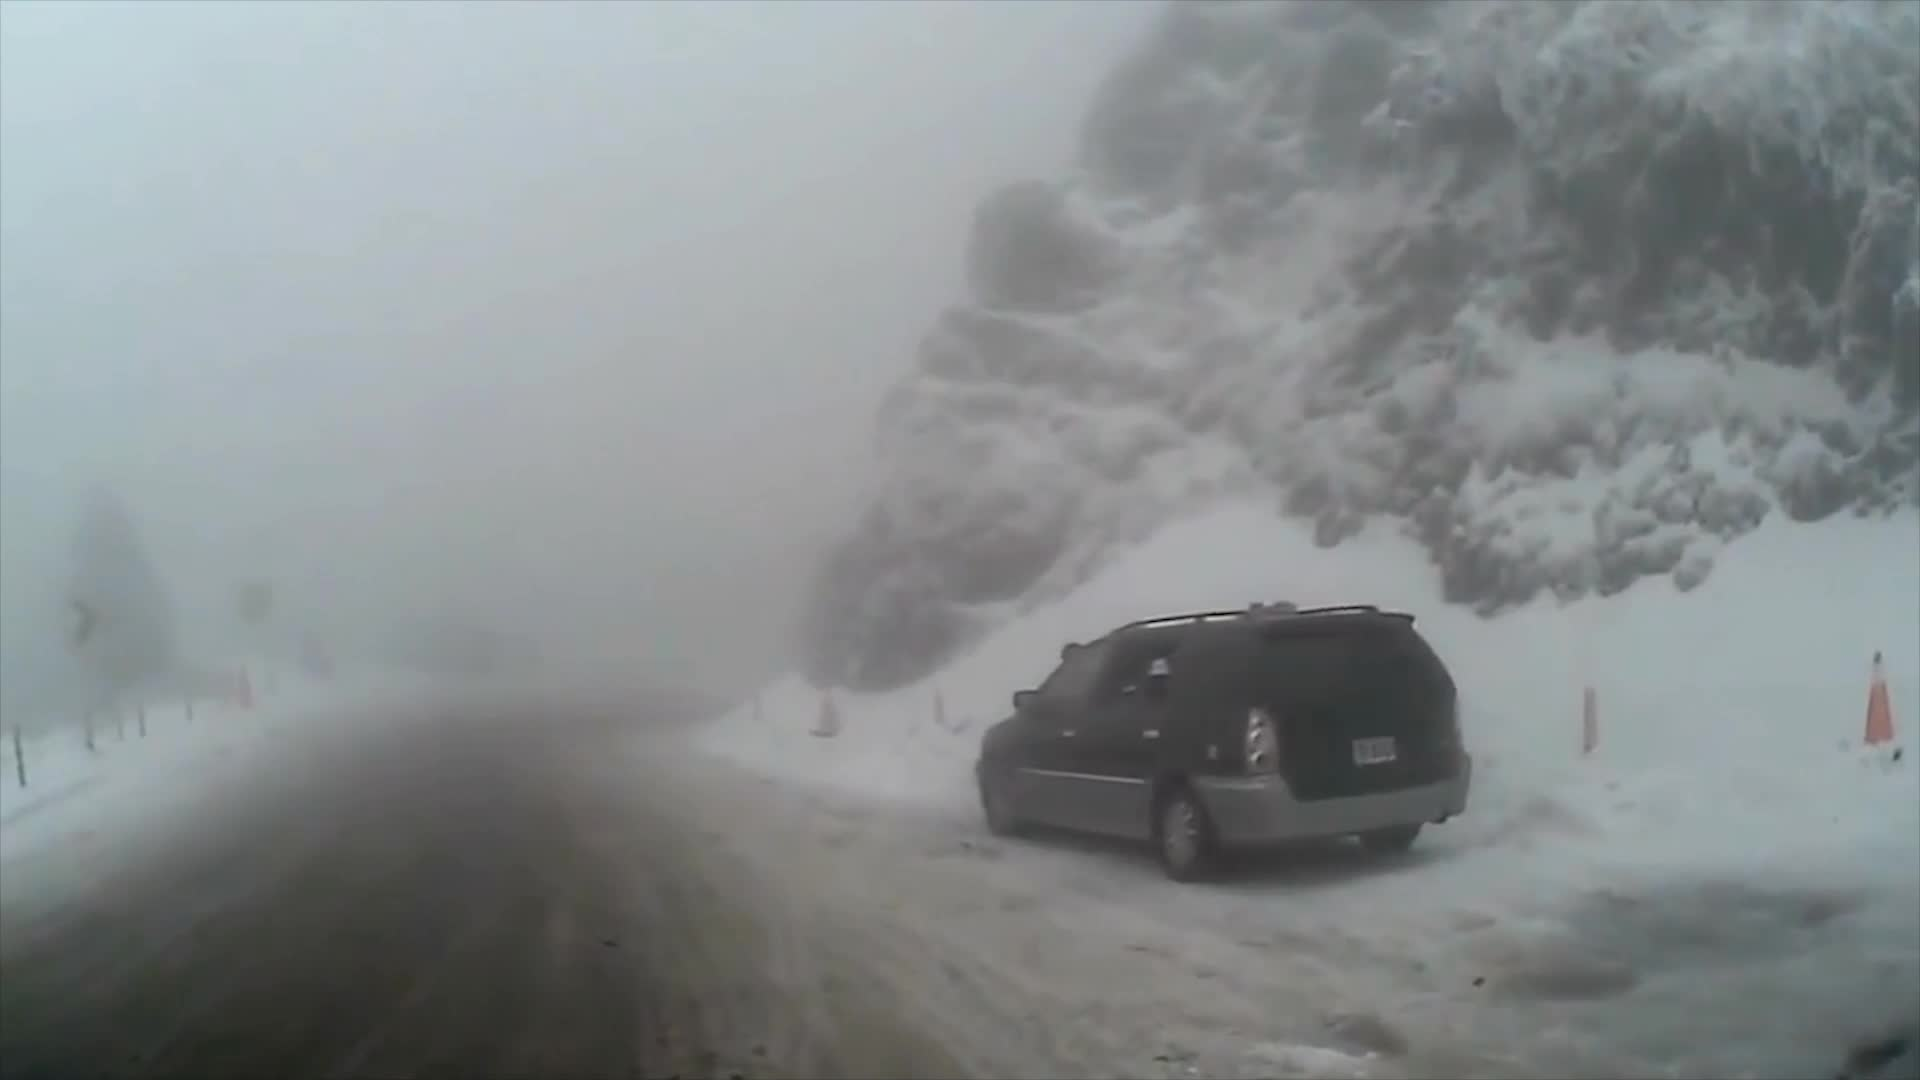vehicle: (973, 596, 1476, 880)
